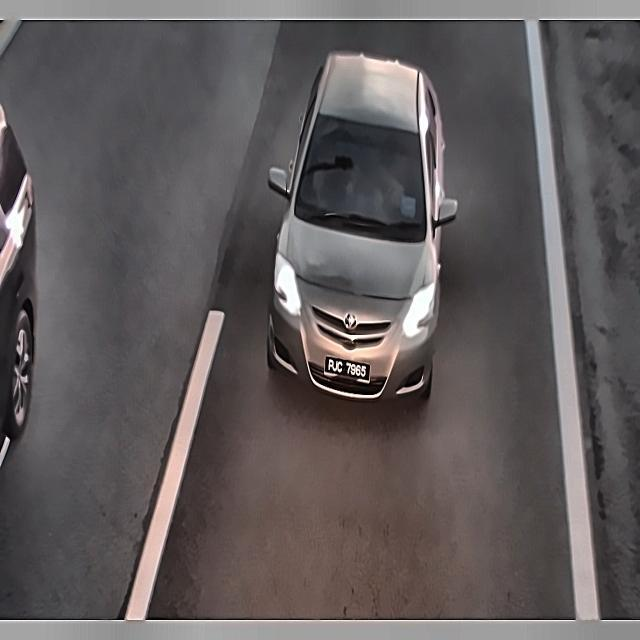car: (319, 348, 375, 392)
